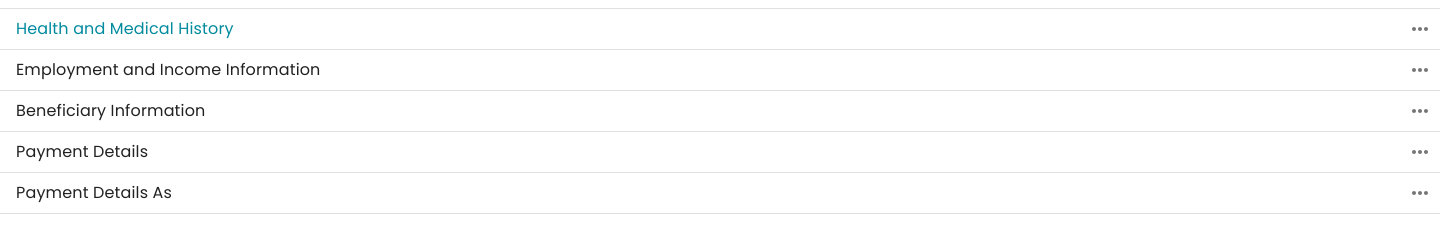
Scenario: Sections component › on clicking the menu icon 'edit', 'delete' and 'add question' options will be displayed
This screenshot has width=1452, height=231.
Step 1. Click the button named "more1" → (1420, 29), box [1400,9,1440,49]
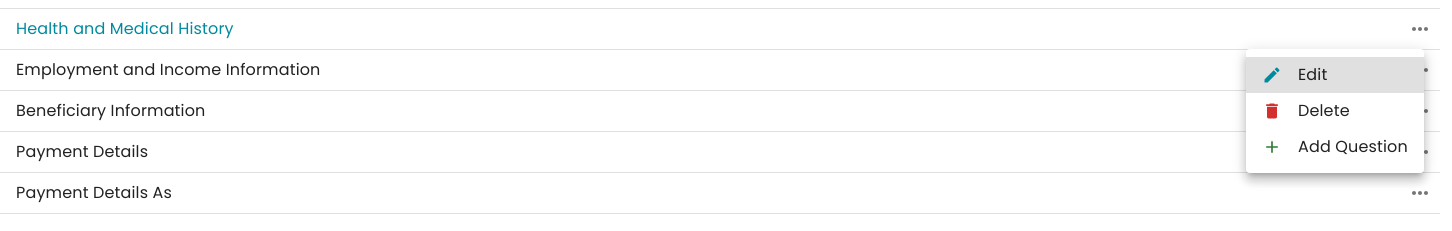
Check: the element with test id "basic-menu" is shown, box [1246,49,1424,173]
